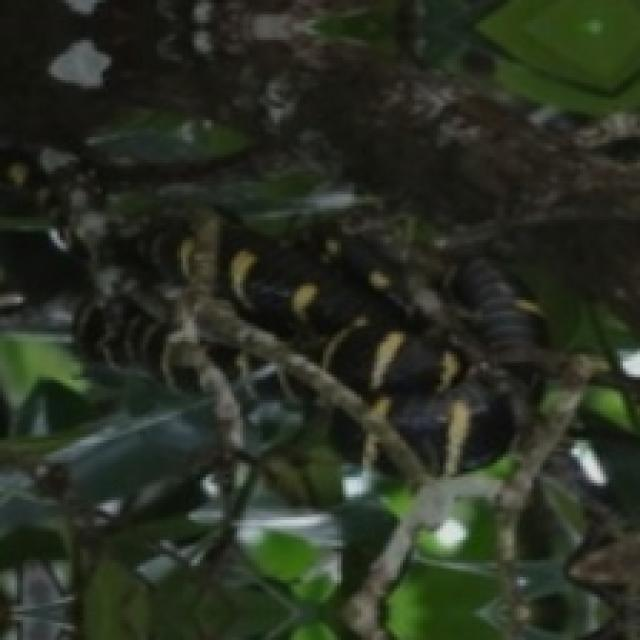mangrove cat snake: (54, 171, 603, 637)
